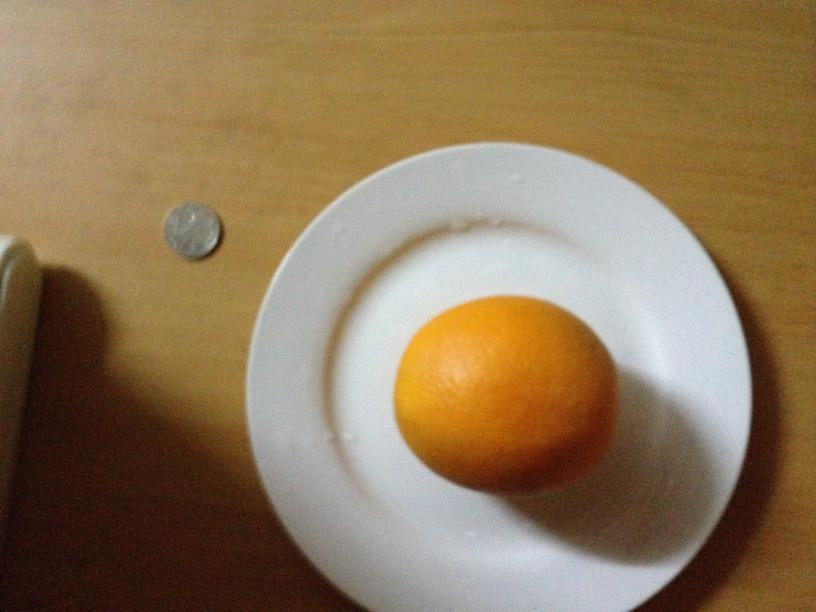coin: (165, 202, 221, 257)
orange: (391, 291, 620, 491)
